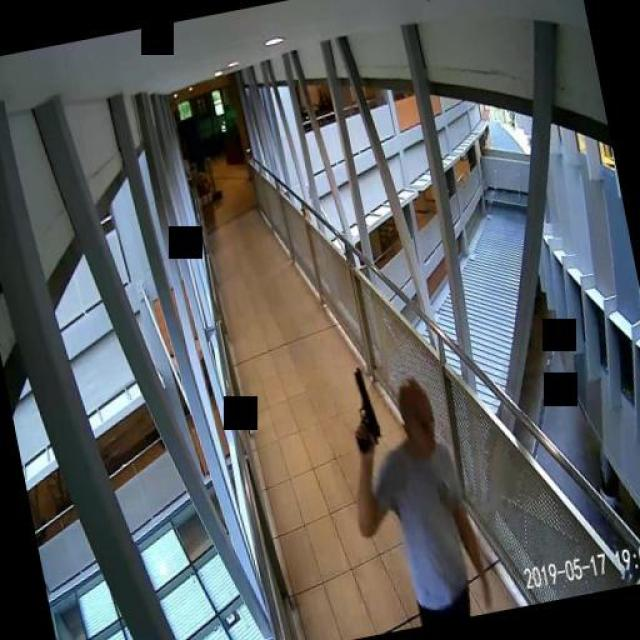gun: (342, 364, 382, 454)
